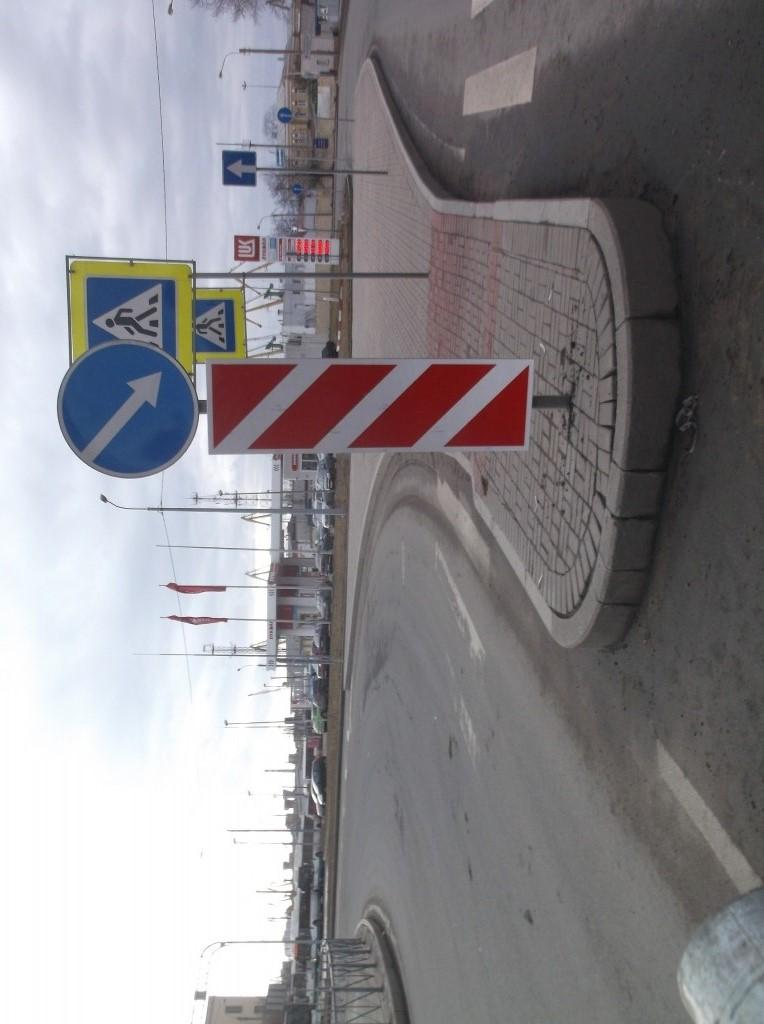obstructed_road_sign: (69, 259, 194, 375), (193, 288, 246, 364)
road_sign: (205, 357, 534, 455), (56, 340, 199, 479), (222, 150, 256, 187)
